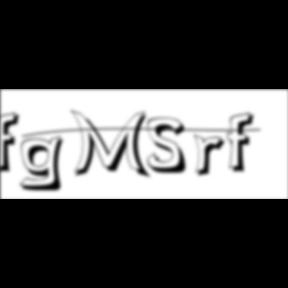M: (70, 108, 154, 181)
S: (148, 117, 194, 176)
f: (228, 111, 260, 175), (1, 111, 25, 175)
g: (19, 134, 71, 194)
r: (194, 134, 232, 180)
